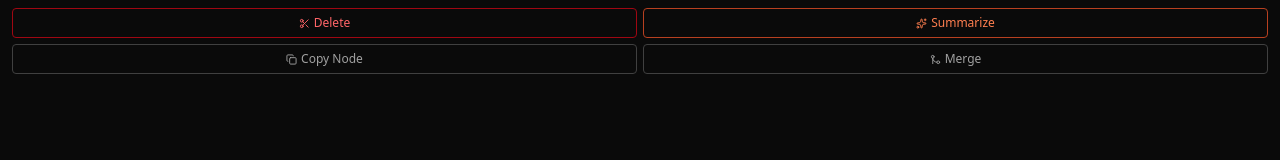
Scenario: NodeControls — node selected › enters copy mode when Copy Node is clicked
Click the button "Copy Node": [324, 59] box [12,44,637,74]
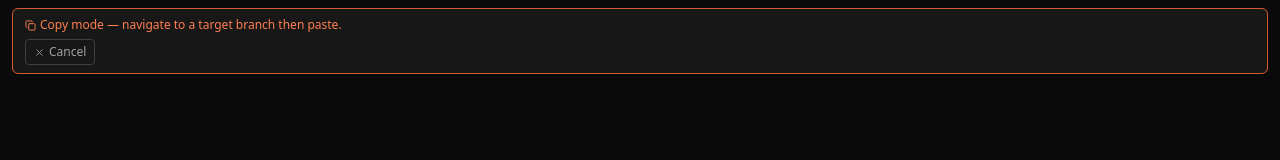
Expected: the text "Copy mode — navigate to a target branch then paste." is shown, [25,16,342,33]
